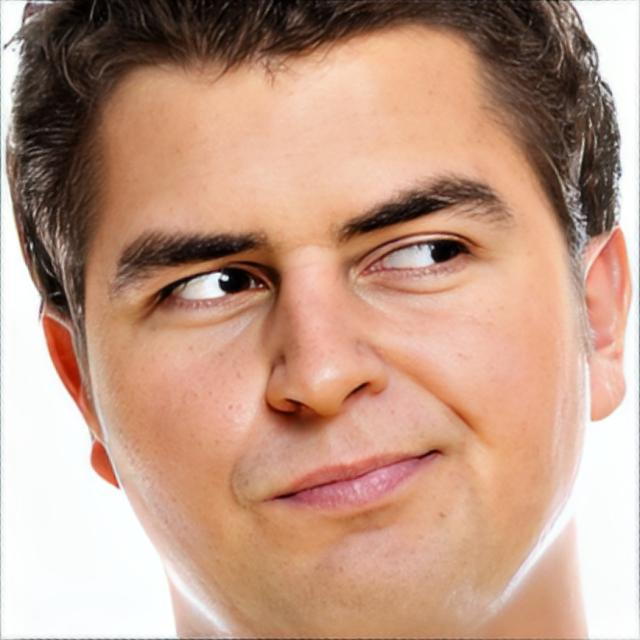content: (82, 22, 590, 640)
